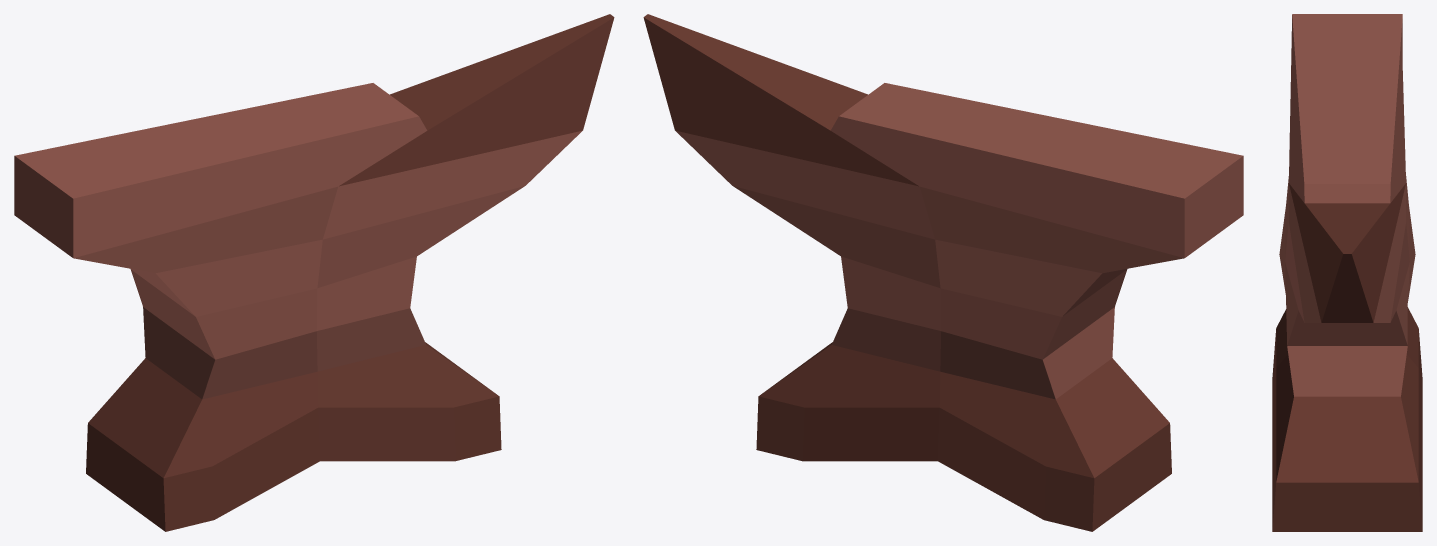
Rendered from Anvil_3_Red.fbx.
3 renders of one model, left to right at view 1: azimuth 30°, elevation 25°; view 2: azimuth 150°, elevation 25°; view 3: azimuth 270°, elevation 25°, orthographic. The views are drawn at different scales.
Visible parts, largest first — view 1: Anvil_3_Red_Part_1, Anvil_3_Red_Part_2; view 2: Anvil_3_Red_Part_1, Anvil_3_Red_Part_2; view 3: Anvil_3_Red_Part_1, Anvil_3_Red_Part_2.
Boxes of the visible parts, <box> form: Anvil_3_Red_Part_1: <box>14,83,582,399</box>; Anvil_3_Red_Part_2: <box>86,14,614,531</box>; Anvil_3_Red_Part_1: <box>675,83,1243,399</box>; Anvil_3_Red_Part_2: <box>643,14,1171,531</box>; Anvil_3_Red_Part_1: <box>1279,14,1415,396</box>; Anvil_3_Red_Part_2: <box>1272,183,1422,531</box>.
Bounding box in the file's own units: 96.38 × 59.7 × 23.38.
